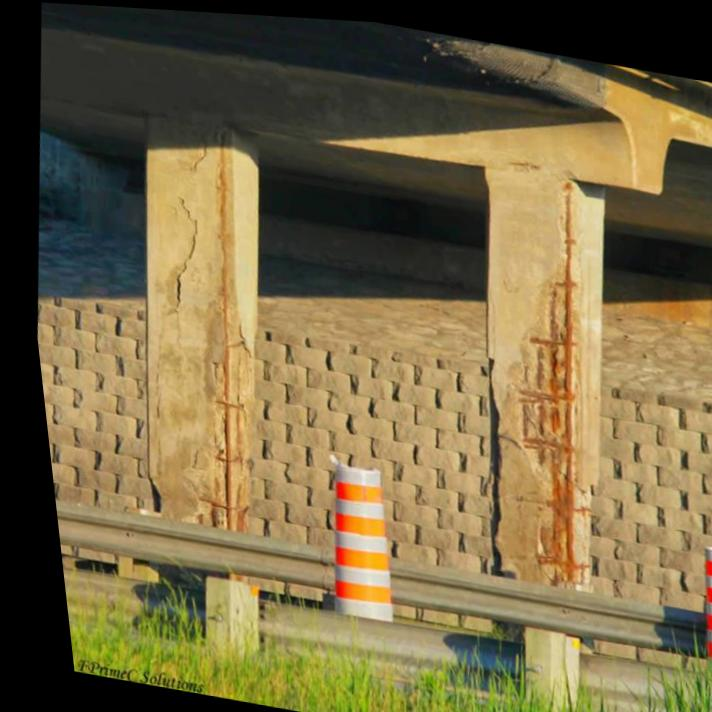crack: (166, 193, 196, 313), (187, 133, 204, 175)
damage: (483, 172, 577, 587), (170, 130, 244, 530)
